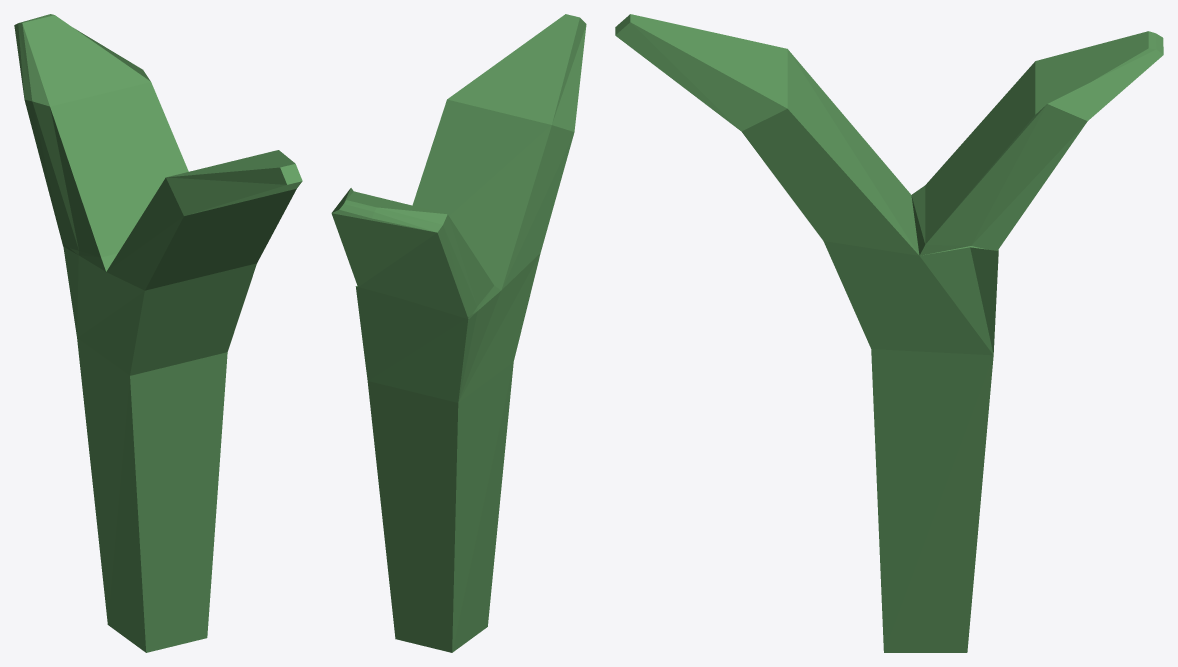
The model's file is sprout.fbx.
3 renders of one model, left to right at view 1: azimuth 30°, elevation 25°; view 2: azimuth 150°, elevation 25°; view 3: azimuth 270°, elevation 25°, orthographic. The views are drawn at different scales.
Visible parts, largest first — view 1: pCube1; view 2: pCube1; view 3: pCube1.
Boxes of the visible parts, left/top/right/bottom form: pCube1: left=14, top=14, right=302, bottom=652; pCube1: left=331, top=14, right=586, bottom=652; pCube1: left=615, top=14, right=1163, bottom=652.
Bounding box in the file's own units: 0.9396 × 4.13 × 3.33.
